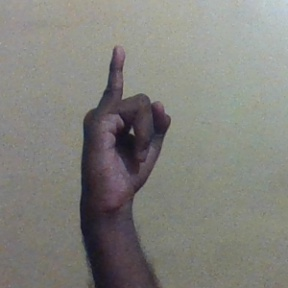I: (80, 44, 173, 206)
